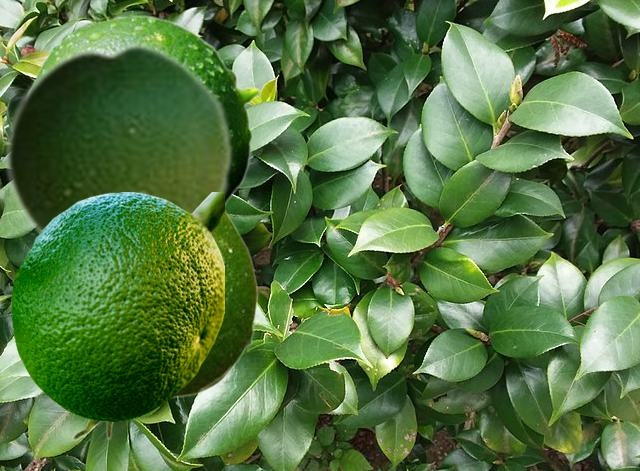dalandan: (11, 192, 223, 420), (3, 39, 233, 234), (33, 14, 260, 208), (71, 207, 257, 440)
